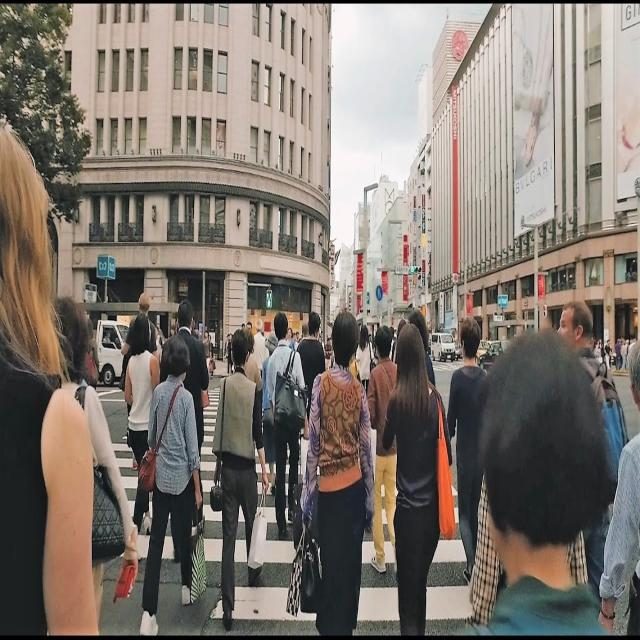body: (101, 306, 640, 440), (0, 123, 100, 638), (453, 328, 612, 636), (458, 341, 595, 639), (49, 294, 139, 631), (300, 307, 378, 638), (381, 320, 456, 639), (556, 299, 631, 606), (134, 332, 208, 639), (210, 327, 270, 635), (596, 338, 640, 636), (158, 297, 210, 529), (446, 314, 488, 586), (264, 308, 311, 542), (365, 325, 401, 575), (123, 311, 161, 539), (296, 310, 326, 422), (260, 330, 280, 497), (120, 291, 158, 358), (252, 318, 270, 444), (354, 323, 376, 399), (242, 326, 264, 392), (83, 316, 100, 392), (154, 324, 164, 364), (302, 322, 308, 338)
